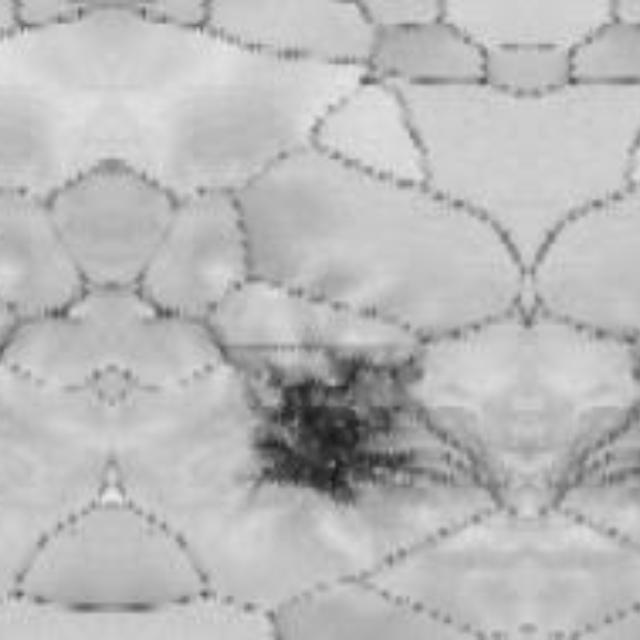good_void: (239, 341, 429, 511)
